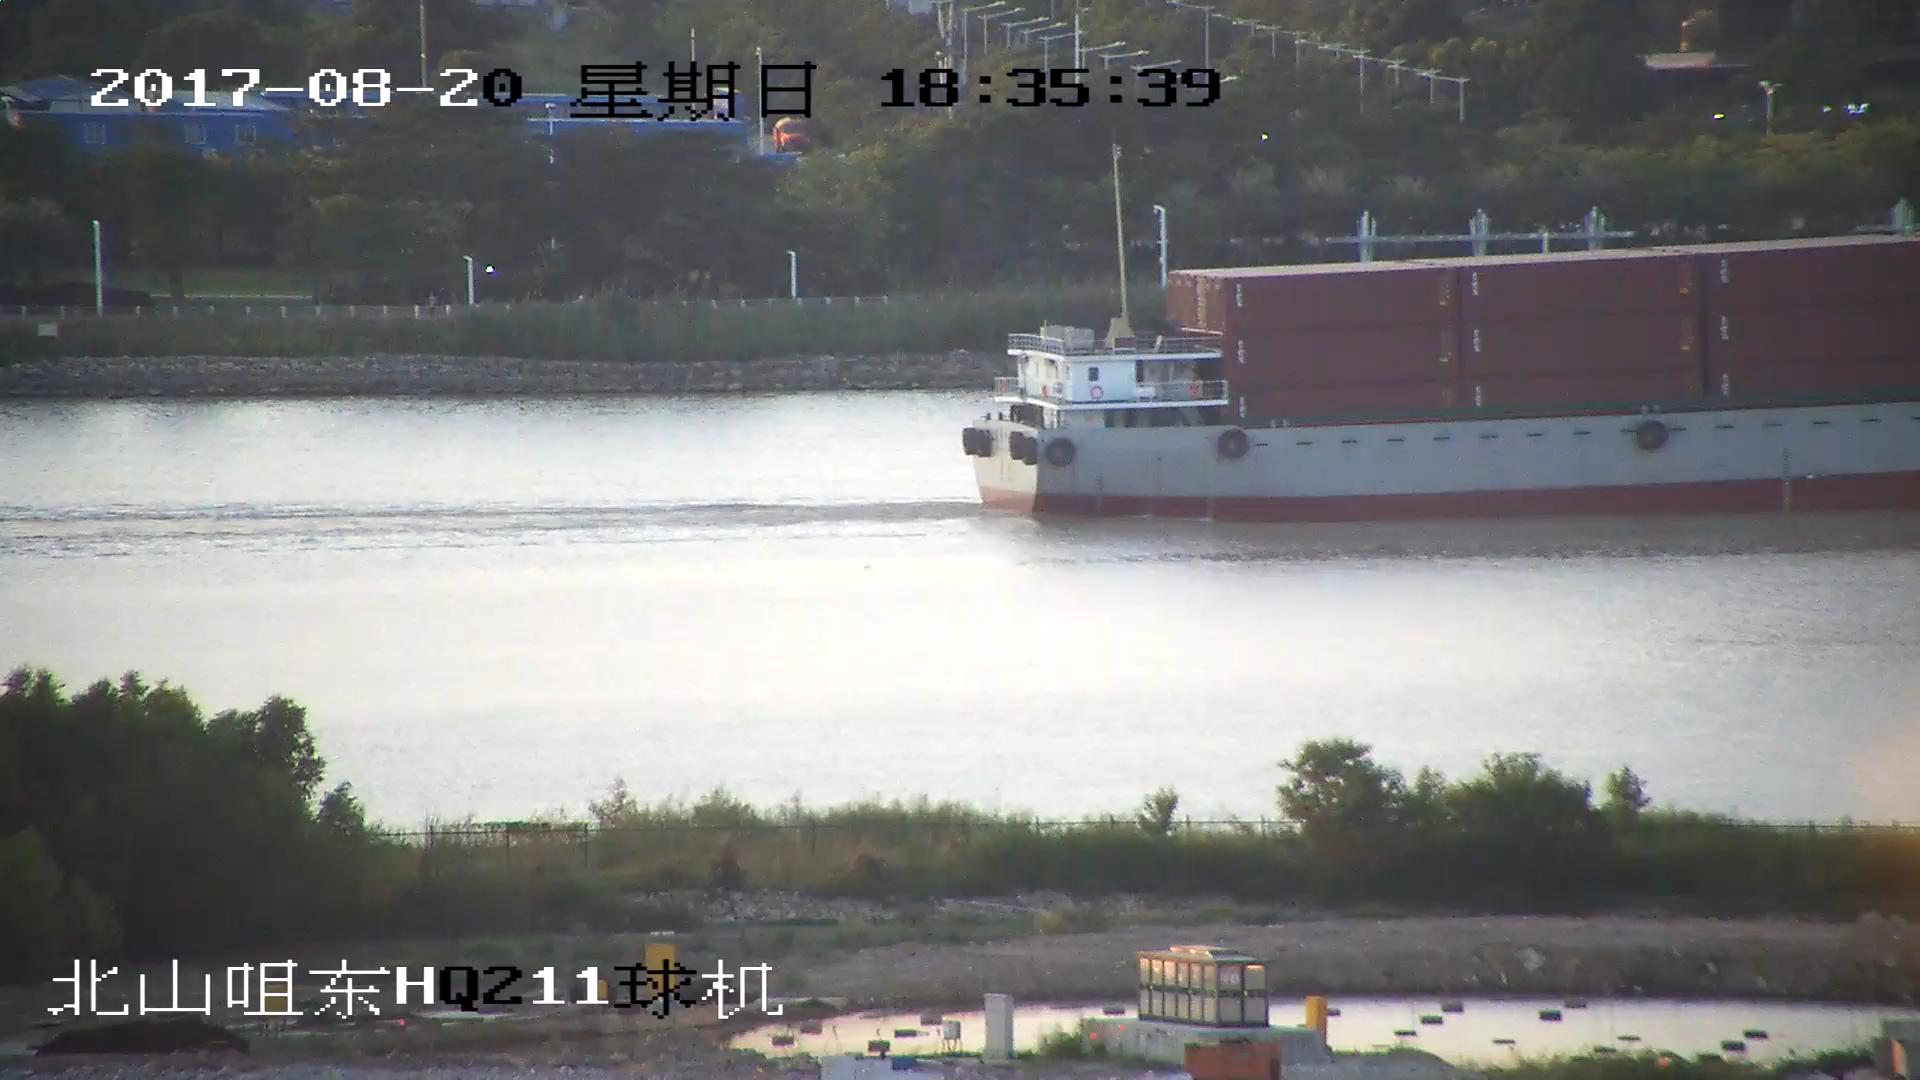container ship: (957, 236, 1920, 522)
